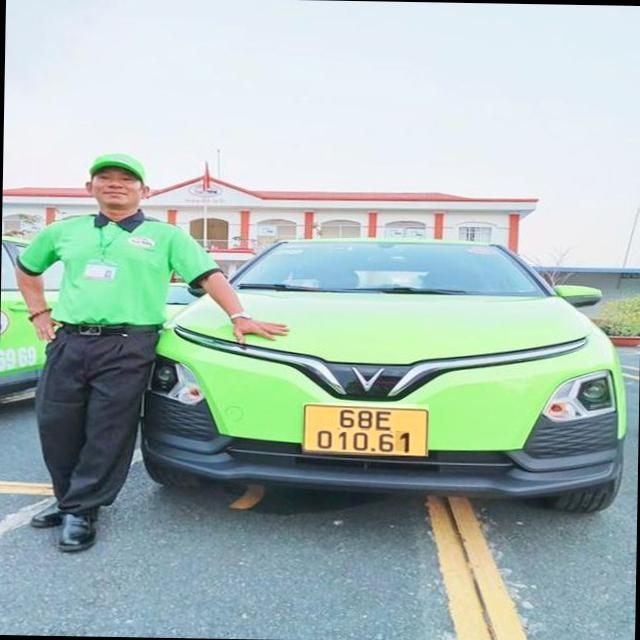car: (129, 219, 638, 520)
plate: (295, 398, 436, 463)
